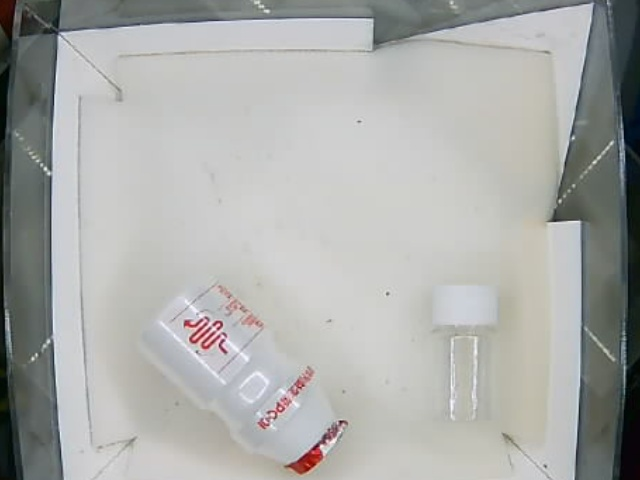Bottle: (142, 271, 350, 474), (428, 284, 498, 432)
